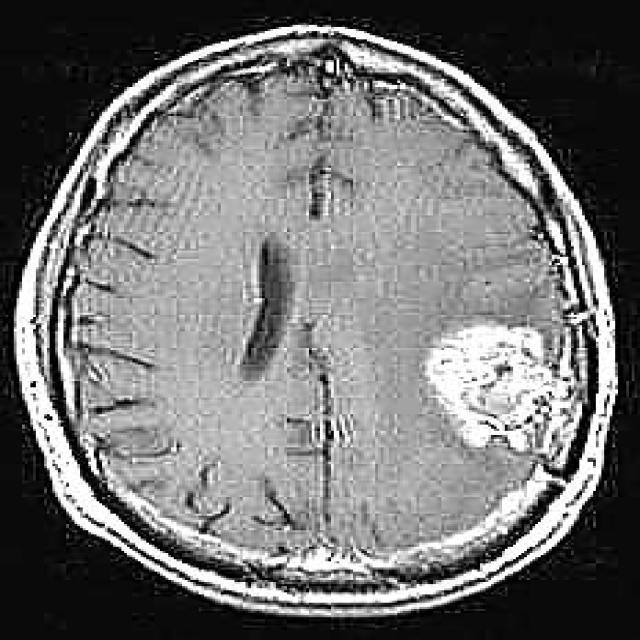brain tumor: (419, 327, 579, 478)
